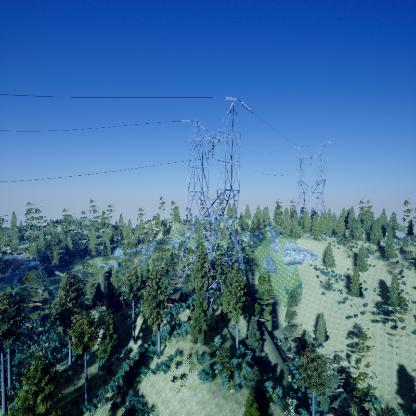tower: (175, 96, 258, 296), (292, 137, 331, 216)
